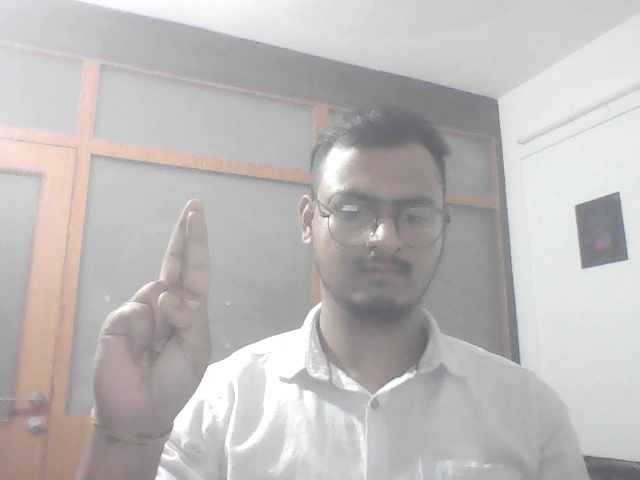GoodLuck: (82, 198, 245, 435)
